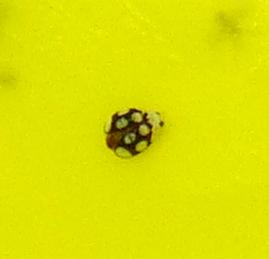Coleoptera: (100, 100, 169, 159)
